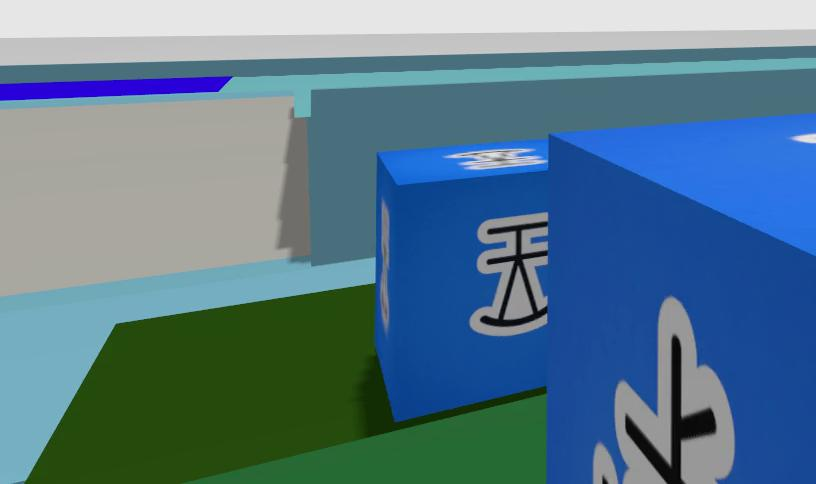KFS_REAL: (375, 139, 549, 420), (614, 296, 735, 483), (470, 212, 548, 336), (445, 147, 546, 169), (669, 335, 682, 479), (379, 201, 389, 327), (793, 134, 815, 143)
